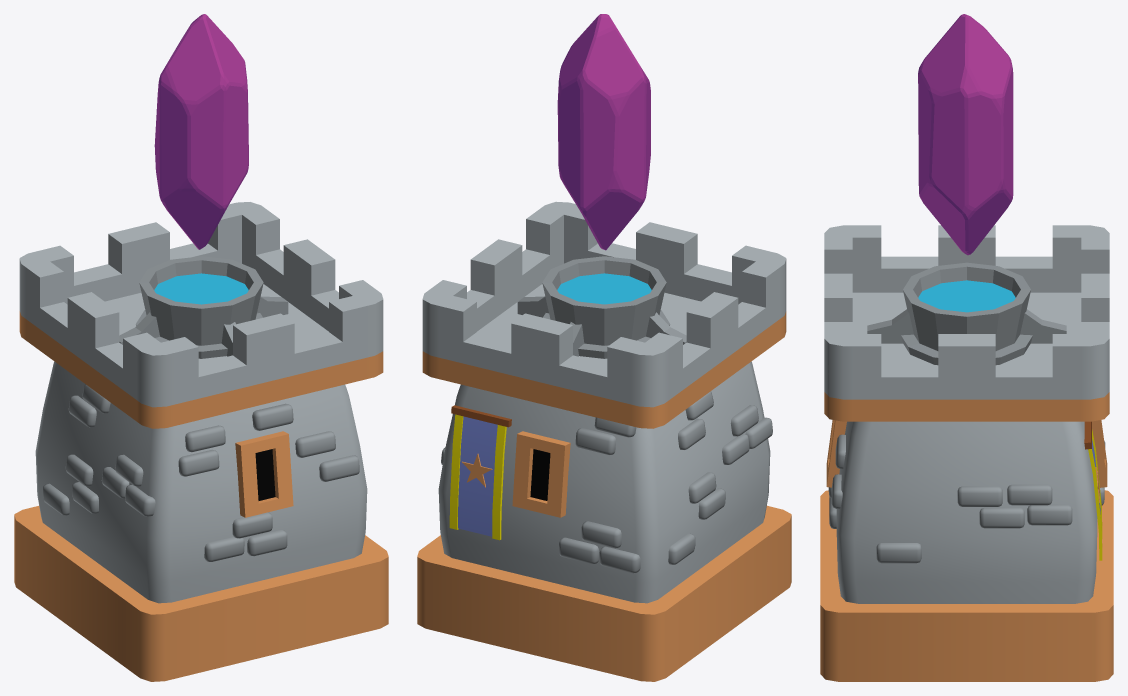
Rendered from stone_tower.fbx.
3 renders of one model, left to right at view 1: azimuth 30°, elevation 25°; view 2: azimuth 150°, elevation 25°; view 3: azimuth 270°, elevation 25°, orthographic. The views are drawn at different scales.
Visible parts, largest first — view 1: Cube.003, Cube.001, Cube.002, Cone, Cylinder.001, Cube.033, Cube.031, Cube.016, Cube.015, Cube.014, Cube.020, Cube.021 (+9 smaller); view 2: Cube.003, Cube.001, Cube.002, Cone, Cylinder.001, Cube.004, Plane.001, Plane.003, Cube.031, Cube.029, Cube.006, Cube.007 (+8 smaller); view 3: Cube.001, Cube.003, Cube.002, Cone, Cylinder.001, Cube.032, Cube.024, Cube.026, Cube.025, Cube.022, Cube.023, Cube.033 (+2 smaller).
Boxes of the visible parts, x1,y1,x2,y2 form: Cube.003: [19, 202, 383, 428]; Cube.001: [35, 361, 367, 603]; Cube.002: [14, 506, 388, 681]; Cone: [154, 14, 248, 249]; Cylinder.001: [136, 256, 263, 358]; Cube.033: [235, 431, 293, 517]; Cube.031: [119, 296, 288, 344]; Cube.016: [252, 403, 293, 430]; Cube.015: [178, 449, 219, 476]; Cube.014: [185, 425, 225, 452]; Cube.020: [319, 455, 359, 481]; Cube.021: [295, 431, 335, 457]; Cube.003: [422, 201, 786, 428]; Cube.001: [438, 361, 770, 603]; Cube.002: [417, 505, 791, 681]; Cone: [557, 14, 650, 250]; Cylinder.001: [542, 256, 669, 358]; Cube.004: [512, 431, 570, 517]; Plane.001: [458, 416, 497, 536]; Plane.003: [449, 414, 506, 540]; Cube.031: [517, 296, 686, 344]; Cube.029: [575, 428, 615, 455]; Cube.006: [581, 521, 621, 548]; Cube.007: [599, 546, 640, 573]; Cube.001: [836, 421, 1097, 603]; Cube.003: [824, 225, 1109, 421]; Cube.002: [820, 490, 1113, 681]; Cone: [918, 14, 1013, 255]; Cylinder.001: [901, 262, 1032, 365]; Cube.032: [867, 309, 1066, 343]; Cube.024: [1007, 484, 1052, 505]; Cube.026: [979, 507, 1024, 528]; Cube.025: [1027, 504, 1072, 525]; Cube.022: [957, 486, 1002, 506]; Cube.023: [876, 543, 921, 563]; Cube.033: [826, 420, 846, 487].
Bounding box in the file's own units: 235 × 534 × 235.
